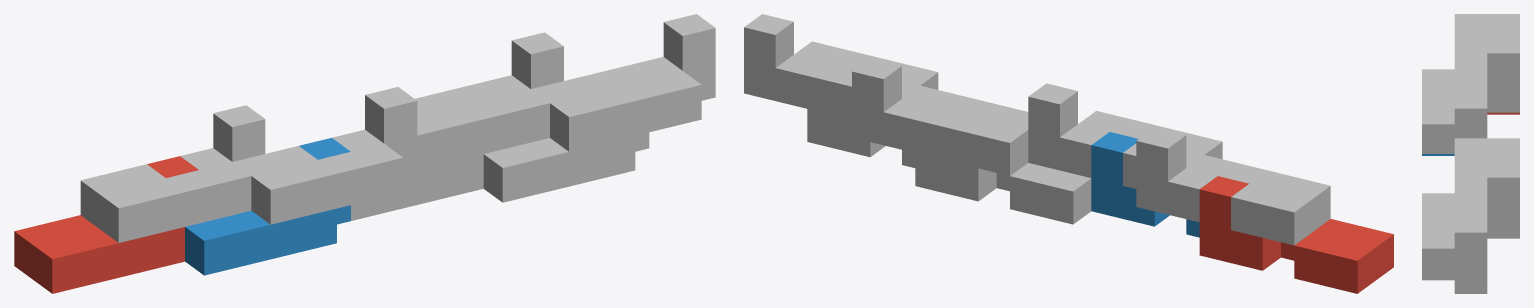
The model's file is tiling.obj.
3 views of the same model, side by side, from view 1: azimuth 30°, elevation 25°; view 2: azimuth 150°, elevation 25°; view 3: azimuth 270°, elevation 25° (orthographic). The views are drawn at different scales.
Parts seen in each view (by area): view 1: copy_1_domain_4, copy_1_domain_3, copy_1_domain_8, copy_1_domain_7, copy_1_domain_1, copy_1_domain_6, copy_1_domain_2, copy_1_domain_5; view 2: copy_1_domain_3, copy_1_domain_7, copy_1_domain_1, copy_1_domain_5, copy_1_domain_4, copy_1_domain_8, copy_1_domain_2, copy_1_domain_6; view 3: copy_1_domain_8, copy_1_domain_3, copy_1_domain_4, copy_1_domain_7, copy_1_domain_6, copy_1_domain_1, copy_1_domain_5.
Boxes of the visible parts, x1,y1,x2,y2 form: copy_1_domain_4: (233, 87, 417, 224); copy_1_domain_3: (80, 105, 265, 242); copy_1_domain_8: (531, 14, 715, 151); copy_1_domain_7: (415, 32, 563, 169); copy_1_domain_1: (14, 156, 198, 293); copy_1_domain_6: (483, 65, 649, 202); copy_1_domain_2: (185, 137, 350, 275); copy_1_domain_5: (351, 83, 497, 220); copy_1_domain_3: (1136, 127, 1330, 245); copy_1_domain_7: (852, 58, 1028, 175); copy_1_domain_1: (1199, 176, 1393, 293); copy_1_domain_5: (915, 106, 1091, 224); copy_1_domain_4: (1028, 83, 1222, 188); copy_1_domain_8: (744, 14, 938, 119); copy_1_domain_2: (1091, 132, 1199, 237); copy_1_domain_6: (807, 62, 915, 167); copy_1_domain_8: (1422, 193, 1487, 291); copy_1_domain_3: (1454, 14, 1519, 112); copy_1_domain_4: (1422, 69, 1487, 153); copy_1_domain_7: (1454, 138, 1519, 236); copy_1_domain_6: (1422, 278, 1487, 293); copy_1_domain_1: (1487, 112, 1519, 114); copy_1_domain_5: (1487, 236, 1519, 238).
Size of the model in its own units: 20 by 3 by 3.
